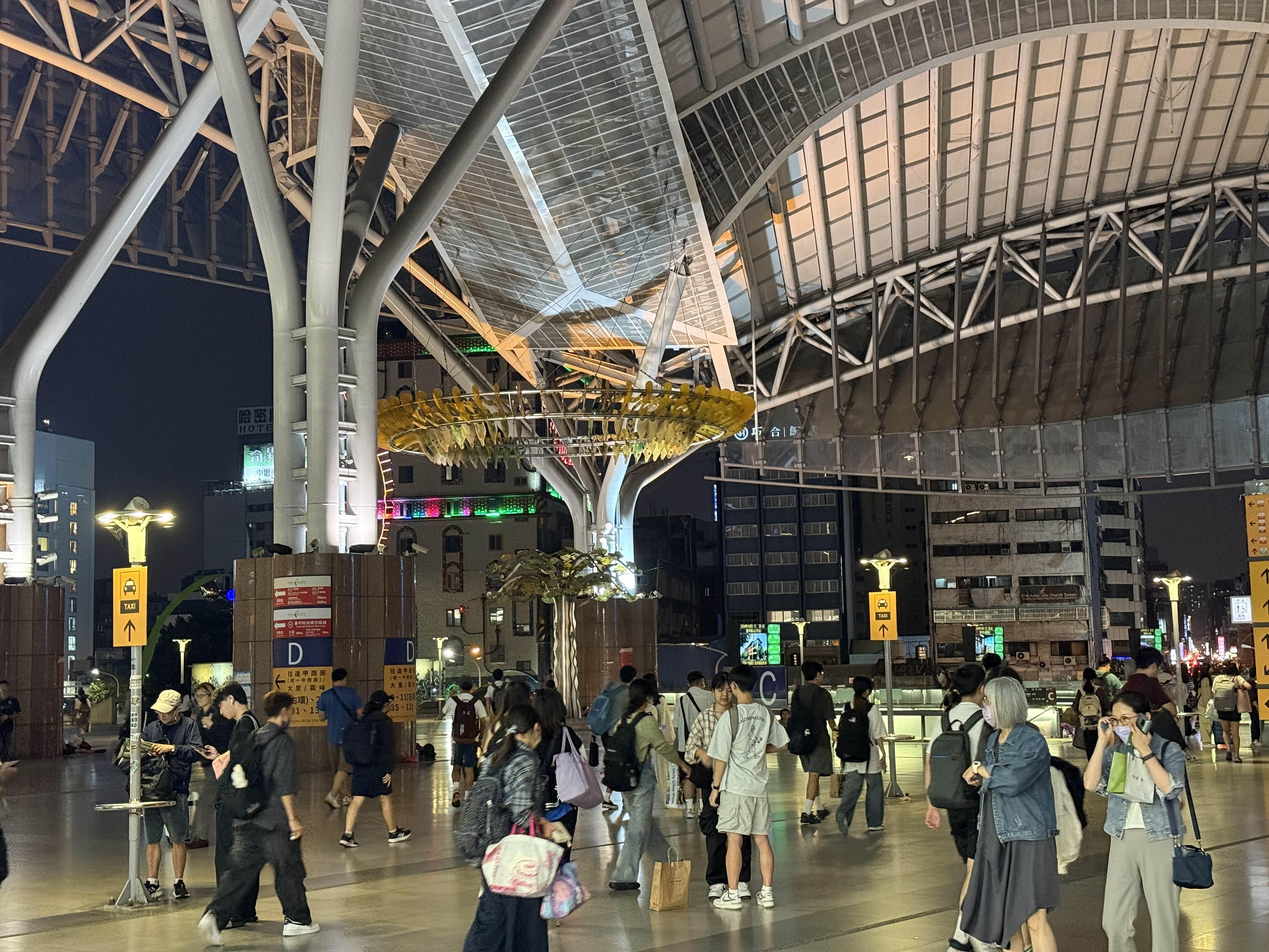NoHelmet: (984, 677, 1028, 730), (1112, 692, 1152, 743), (214, 680, 246, 722), (151, 690, 182, 725), (712, 671, 735, 706), (731, 664, 757, 694), (1135, 647, 1162, 675), (802, 660, 825, 684)
